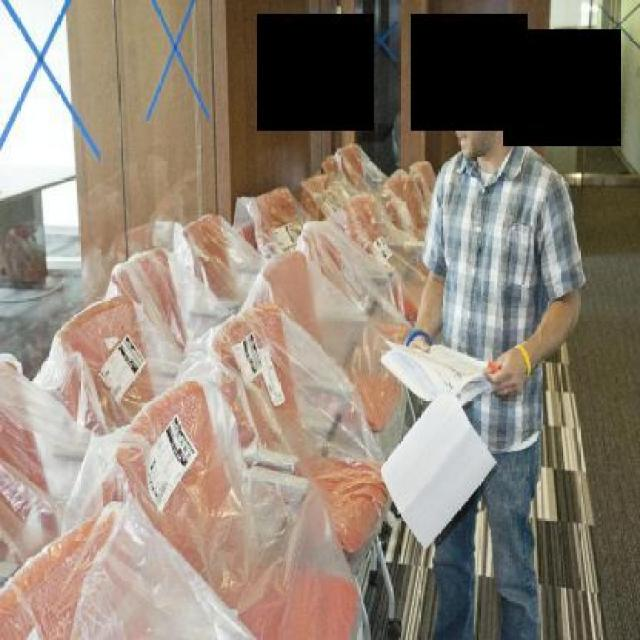plastic bag: (0, 136, 438, 638)
